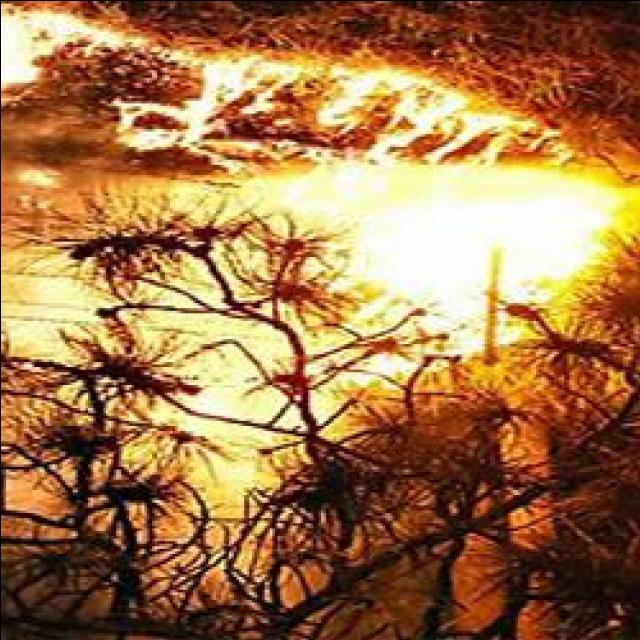fire: (358, 178, 564, 286)
